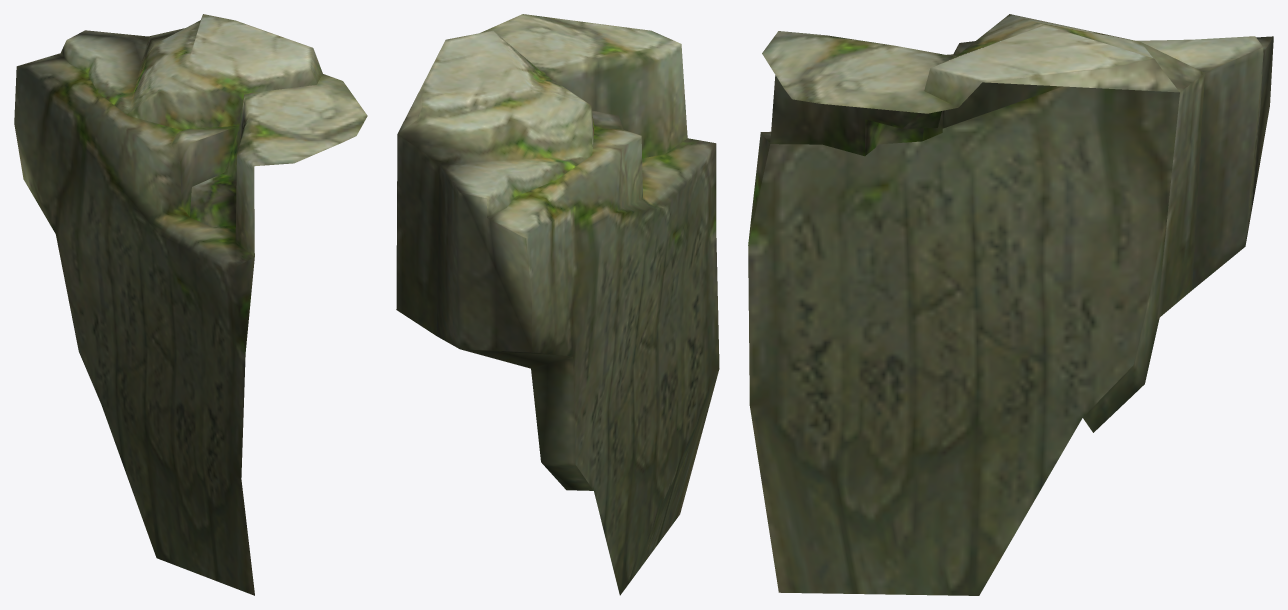
Rendered from S_Rock_Green050_1060_5.fbx.
3 views of the same model, side by side, from view 1: azimuth 30°, elevation 25°; view 2: azimuth 150°, elevation 25°; view 3: azimuth 270°, elevation 25° (orthographic). The views are drawn at different scales.
Visible parts, largest first — view 1: S_Rock_Green050_1060_5; view 2: S_Rock_Green050_1060_5; view 3: S_Rock_Green050_1060_5.
Part boxes in pixels (x1,y1,x2,y2): S_Rock_Green050_1060_5: (14,14,367,595); S_Rock_Green050_1060_5: (396,14,719,595); S_Rock_Green050_1060_5: (748,14,1273,595).
Bounding box in the file's own units: 873 × 1987 × 1541.
Materials: 1 (1 with a texture image).
